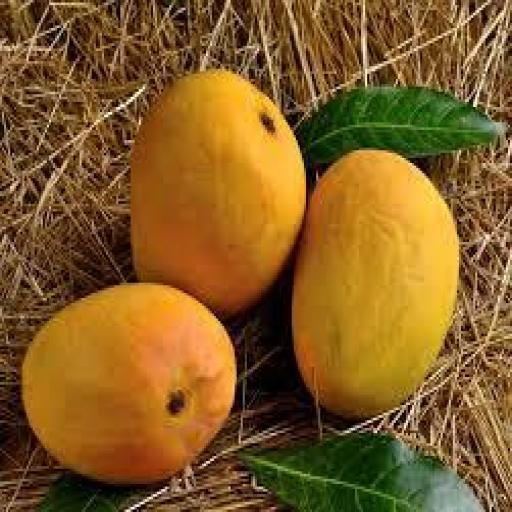mango: (292, 151, 458, 417), (23, 283, 236, 483), (131, 72, 305, 315)
